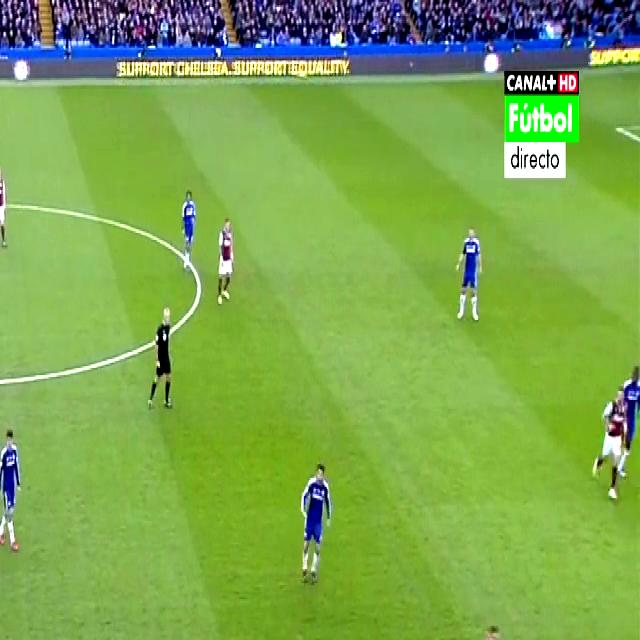referee: (146, 294, 176, 415)
soccer-player: (298, 446, 334, 596), (591, 383, 629, 506), (450, 213, 487, 328), (0, 418, 27, 562), (213, 210, 239, 308), (176, 176, 200, 282), (454, 610, 511, 640), (0, 147, 9, 250)
